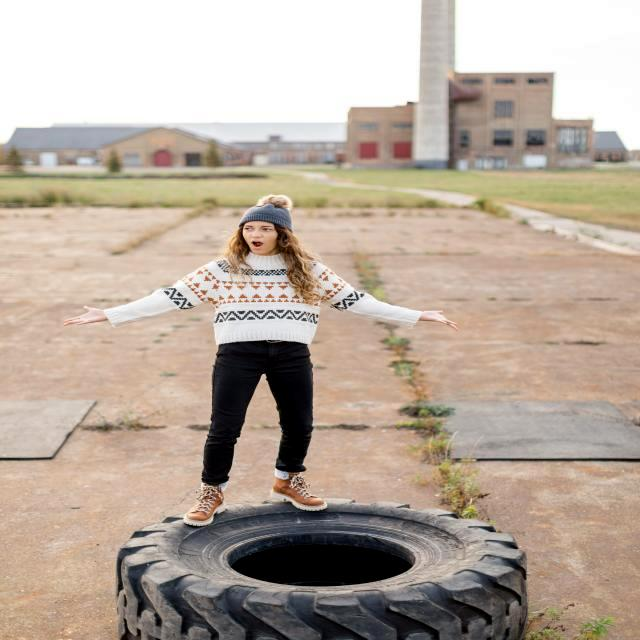no_hard_hat: (238, 192, 293, 224)
person: (64, 184, 462, 532)
